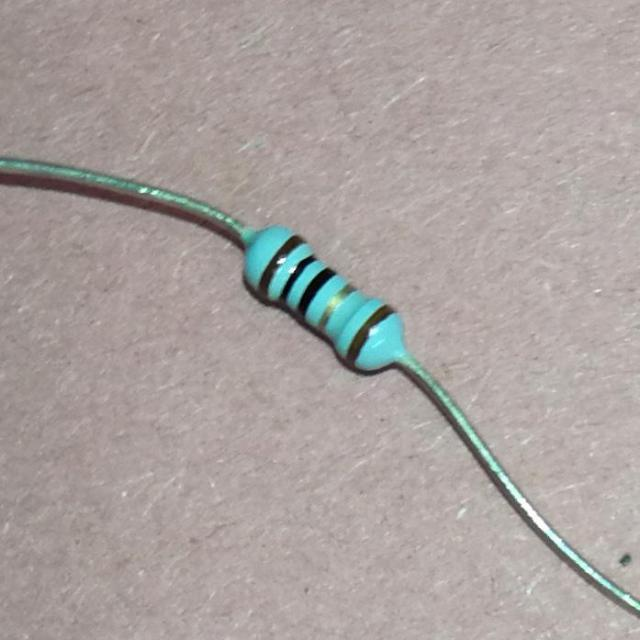Resistor: (244, 227, 407, 371)
black: (277, 252, 321, 302), (294, 267, 335, 320)
brown: (258, 234, 305, 302), (345, 304, 399, 363)
gold: (310, 282, 359, 336)
